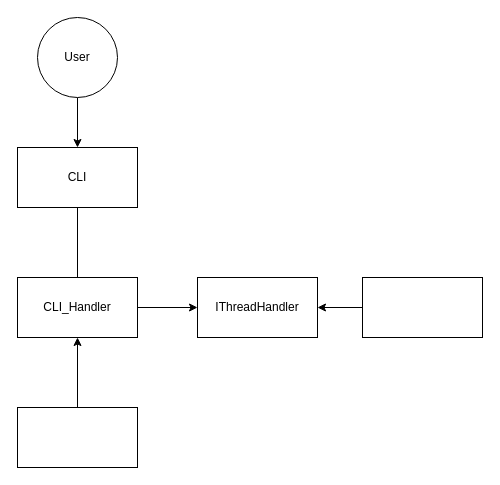
This 500x485 diagram has some shape labels left out. The shapes that lost their labels are listed below. From the top down, each one's centre as x and y in pixels, then its label:
At point (422, 307): "FileHandler".
At point (77, 437): "VisualHandler".
